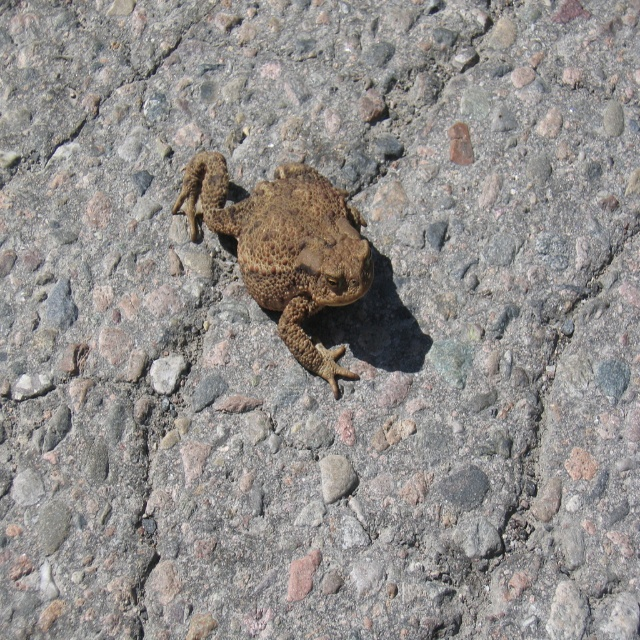Frog: (172, 150, 374, 399)
